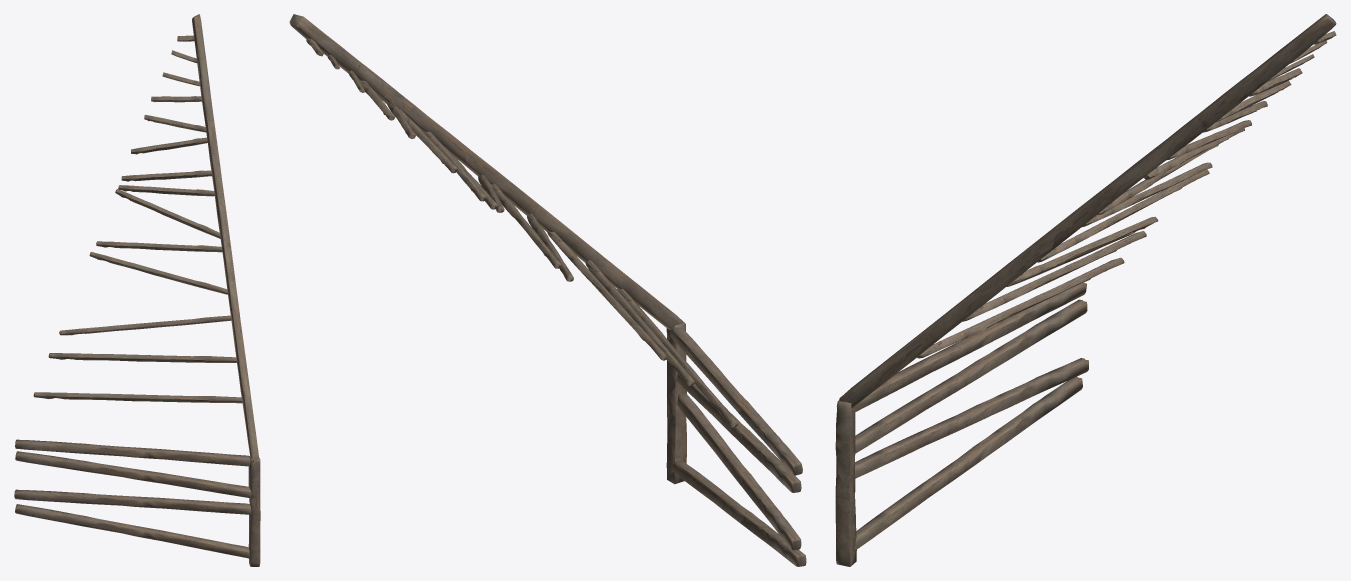
The model's file is Tent_P_WoodenStand08.FBX.
The picture shows the model from 3 angles, left to right: view 1: azimuth 30°, elevation 25°; view 2: azimuth 150°, elevation 25°; view 3: azimuth 270°, elevation 25°; orthographic projection. The views are drawn at different scales.
Parts seen in each view (by area): view 1: Tent_P_WoodenStand08; view 2: Tent_P_WoodenStand08; view 3: Tent_P_WoodenStand08.
Part boxes in pixels (x1=…): Tent_P_WoodenStand08: x1=14, y1=14, x2=260, y2=566; Tent_P_WoodenStand08: x1=289, y1=14, x2=806, y2=566; Tent_P_WoodenStand08: x1=835, y1=14, x2=1336, y2=566.
Size of the model in its own units: 1183 by 1728 by 1259.
